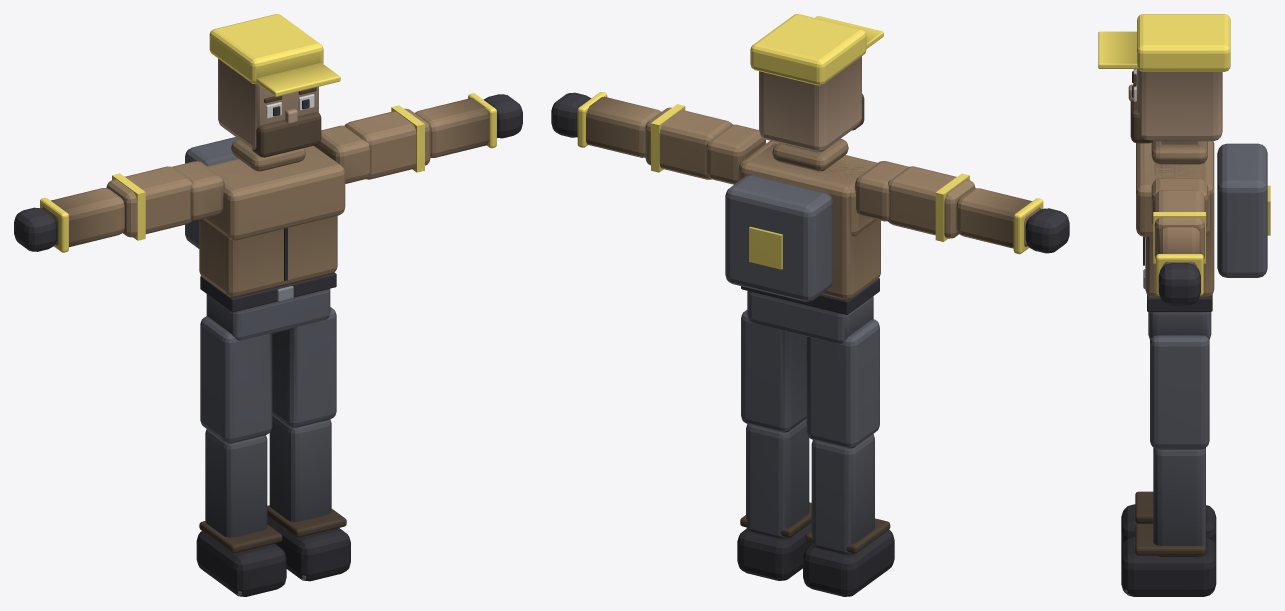
The model's file is tomas.glb.
The picture shows the model from 3 angles, left to right: view 1: azimuth 30°, elevation 25°; view 2: azimuth 150°, elevation 25°; view 3: azimuth 270°, elevation 25°; orthographic projection. The views are drawn at different scales.
Visible parts, largest first — view 1: Tomas_Reyes; view 2: Tomas_Reyes; view 3: Tomas_Reyes.
Boxes of the visible parts, x1,y1,x2,y2 form: Tomas_Reyes: [14, 14, 522, 596]; Tomas_Reyes: [551, 14, 1069, 596]; Tomas_Reyes: [1098, 14, 1270, 596].
Size of the model in its own units: 1.91 by 1.94 by 0.561.
